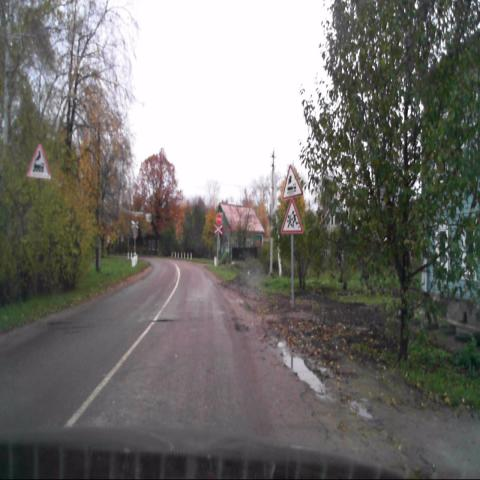1_2: (282, 164, 303, 198)
